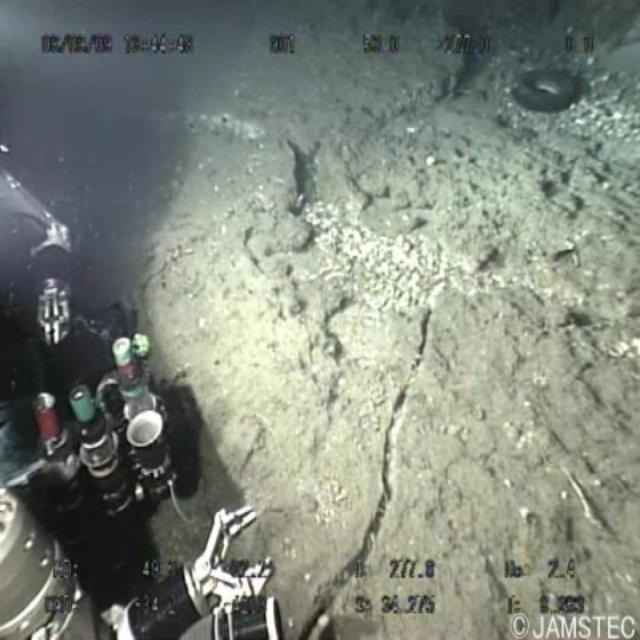Rubber: (500, 39, 598, 140)
